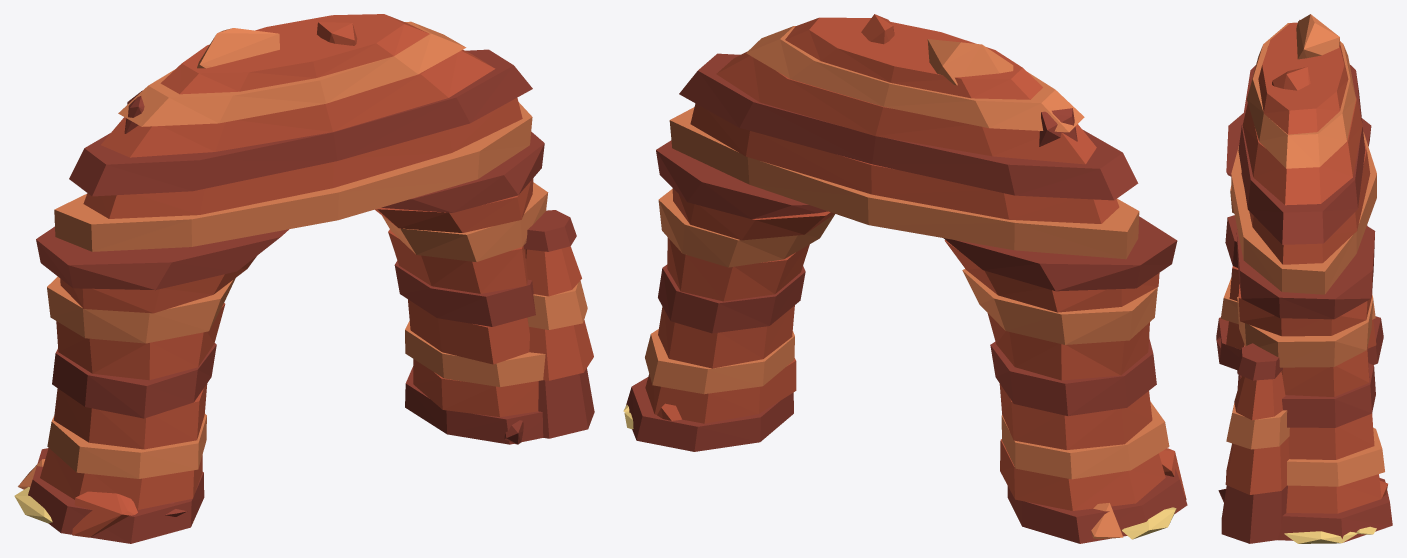
Rendered from Desert_1_RockArch.fbx.
The picture shows the model from 3 angles, left to right: view 1: azimuth 30°, elevation 25°; view 2: azimuth 150°, elevation 25°; view 3: azimuth 270°, elevation 25°; orthographic projection. The views are drawn at different scales.
Visible parts, largest first — view 1: Desert_1_RockArch__Desert_CanyonRed, Desert_1_RockArch__Desert_CanyonDark, Desert_1_RockArch__Desert_CanyonLight; view 2: Desert_1_RockArch__Desert_CanyonRed, Desert_1_RockArch__Desert_CanyonDark, Desert_1_RockArch__Desert_CanyonLight, Desert_1_RockArch__Desert_Sand; view 3: Desert_1_RockArch__Desert_CanyonRed, Desert_1_RockArch__Desert_CanyonDark, Desert_1_RockArch__Desert_CanyonLight, Desert_1_RockArch__Desert_Sand.
Boxes of the visible parts, left/top/right/bottom form: Desert_1_RockArch__Desert_CanyonRed: left=40, top=14, right=593, bottom=537; Desert_1_RockArch__Desert_CanyonDark: left=28, top=49, right=594, bottom=543; Desert_1_RockArch__Desert_CanyonLight: left=18, top=21, right=587, bottom=489; Desert_1_RockArch__Desert_CanyonRed: left=645, top=14, right=1186, bottom=510; Desert_1_RockArch__Desert_CanyonDark: left=626, top=53, right=1187, bottom=543; Desert_1_RockArch__Desert_CanyonLight: left=645, top=26, right=1169, bottom=539; Desert_1_RockArch__Desert_Sand: left=623, top=404, right=1176, bottom=539; Desert_1_RockArch__Desert_CanyonRed: left=1223, top=22, right=1387, bottom=513; Desert_1_RockArch__Desert_CanyonDark: left=1216, top=20, right=1392, bottom=543; Desert_1_RockArch__Desert_CanyonLight: left=1221, top=14, right=1384, bottom=486; Desert_1_RockArch__Desert_Sand: left=1284, top=526, right=1376, bottom=543.
Bounding box in the file's own units: 90.92 × 71.01 × 29.66.
